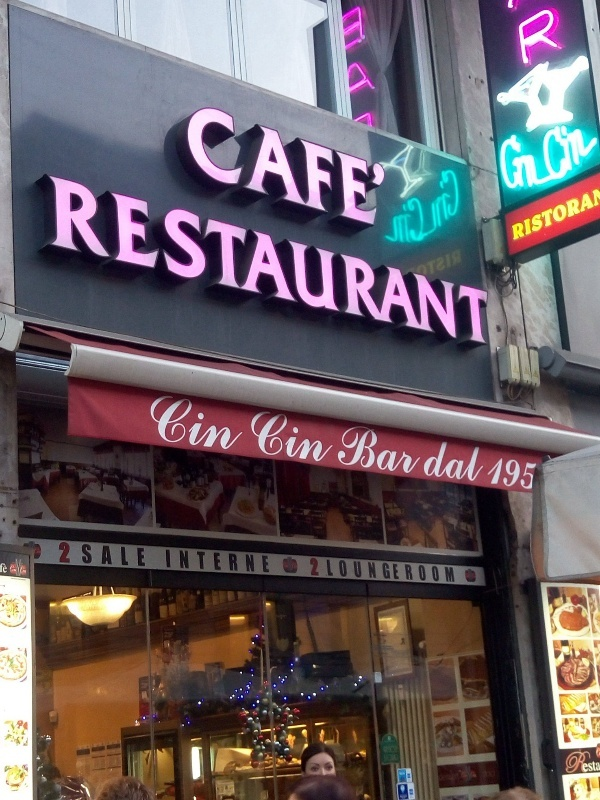text: (49, 171, 64, 353), (65, 171, 80, 353), (81, 171, 96, 353), (97, 171, 112, 353), (113, 171, 128, 353), (129, 171, 144, 353), (145, 171, 160, 353), (161, 171, 176, 353), (177, 171, 192, 353), (193, 171, 208, 353), (209, 171, 224, 353), (225, 171, 240, 353), (241, 171, 256, 353), (257, 171, 272, 353), (273, 171, 288, 353), (289, 171, 304, 353), (305, 171, 320, 353), (321, 171, 336, 353), (337, 171, 352, 353), (353, 171, 368, 353), (369, 171, 384, 353), (385, 171, 400, 353), (401, 171, 416, 353), (417, 171, 432, 353), (433, 171, 448, 353), (449, 171, 464, 353), (465, 171, 480, 353), (193, 99, 208, 232), (209, 99, 224, 232), (225, 99, 240, 232), (241, 99, 256, 232), (257, 99, 272, 232), (273, 99, 288, 232), (289, 99, 304, 232), (305, 99, 320, 232), (321, 99, 336, 232), (337, 99, 352, 232), (353, 99, 368, 232), (369, 99, 384, 232), (481, 171, 491, 353), (385, 159, 400, 265), (401, 159, 416, 265), (417, 159, 432, 265), (433, 159, 448, 265), (513, 106, 528, 205), (529, 106, 544, 205), (545, 106, 560, 205), (561, 106, 576, 205), (577, 106, 592, 205), (499, 106, 512, 205), (449, 159, 461, 265), (529, 3, 544, 68), (545, 3, 560, 68), (161, 393, 176, 454), (177, 393, 192, 454), (193, 393, 208, 454), (209, 393, 224, 454), (225, 393, 240, 454), (257, 408, 272, 468), (273, 408, 288, 468), (289, 408, 304, 468), (305, 408, 320, 468), (353, 421, 368, 477), (369, 421, 384, 477), (385, 421, 400, 477), (401, 421, 416, 477), (513, 188, 528, 243), (529, 188, 544, 243), (545, 188, 560, 243), (561, 188, 576, 243), (577, 188, 592, 243), (321, 408, 334, 468), (593, 106, 600, 205), (433, 439, 448, 484), (449, 439, 464, 484), (465, 439, 480, 484), (518, 3, 528, 68), (353, 5, 365, 53), (342, 421, 352, 477), (151, 393, 160, 454), (379, 159, 384, 265), (497, 455, 512, 490), (513, 455, 528, 490), (353, 61, 368, 94), (342, 5, 352, 53), (433, 248, 448, 278), (449, 248, 463, 278), (189, 99, 192, 232), (250, 408, 256, 468), (81, 544, 96, 568), (97, 544, 112, 568), (113, 544, 128, 568), (129, 544, 144, 568), (177, 549, 192, 573), (193, 549, 208, 573), (209, 549, 224, 573), (225, 549, 240, 573), (241, 549, 256, 573), (337, 559, 352, 583), (353, 559, 368, 583), (369, 559, 384, 583), (385, 559, 400, 583), (401, 559, 416, 583), (417, 559, 432, 583), (433, 559, 448, 583), (257, 549, 270, 573), (369, 61, 378, 94), (529, 455, 537, 490), (385, 746, 400, 764), (561, 3, 565, 68), (166, 549, 176, 573), (326, 559, 336, 583), (417, 421, 421, 477), (309, 557, 320, 577), (241, 393, 244, 454), (47, 171, 48, 353), (428, 439, 432, 484), (426, 248, 432, 278), (1, 563, 16, 574), (449, 559, 455, 583), (492, 455, 496, 490), (481, 439, 484, 484), (385, 99, 386, 232), (65, 542, 71, 564), (59, 542, 64, 564), (349, 61, 352, 94), (583, 762, 592, 773), (21, 566, 32, 574), (593, 762, 600, 773), (511, 188, 512, 243), (593, 188, 594, 243), (10, 566, 16, 573), (145, 544, 146, 568), (383, 746, 384, 764)
